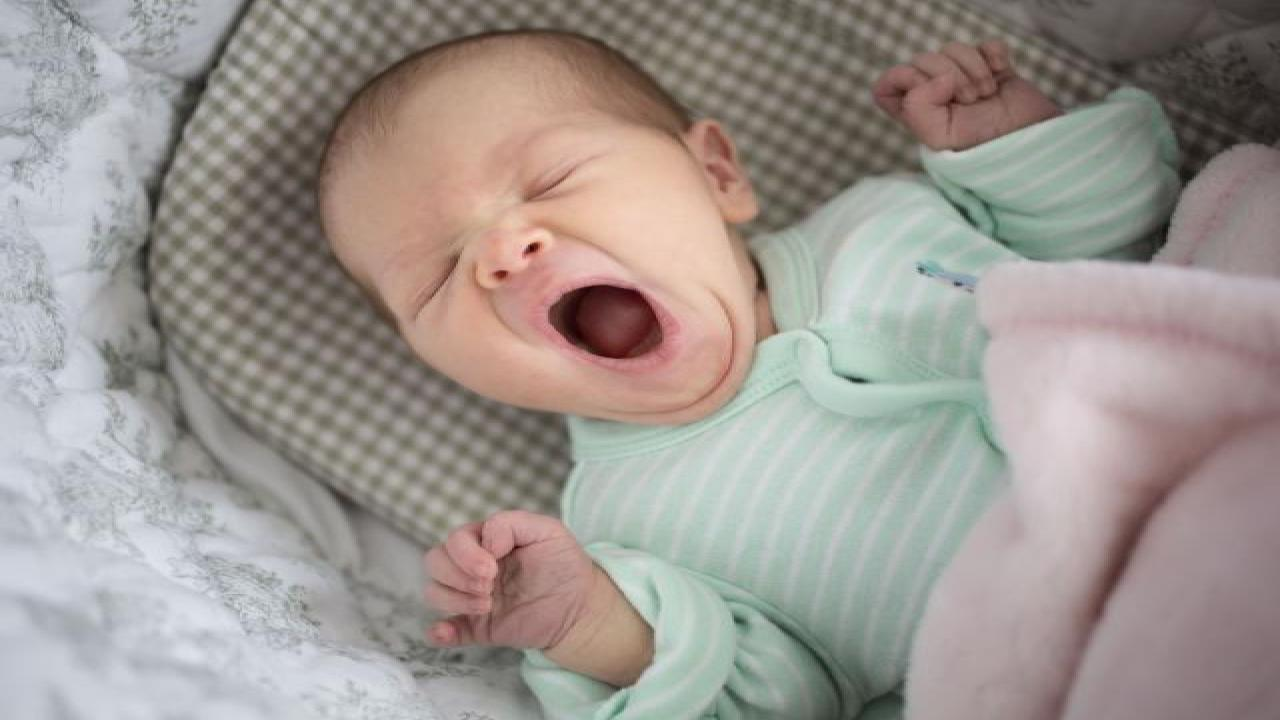hand: (411, 509, 605, 657), (870, 38, 1062, 156)
